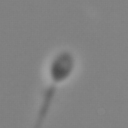normal: (31, 81, 58, 128)
